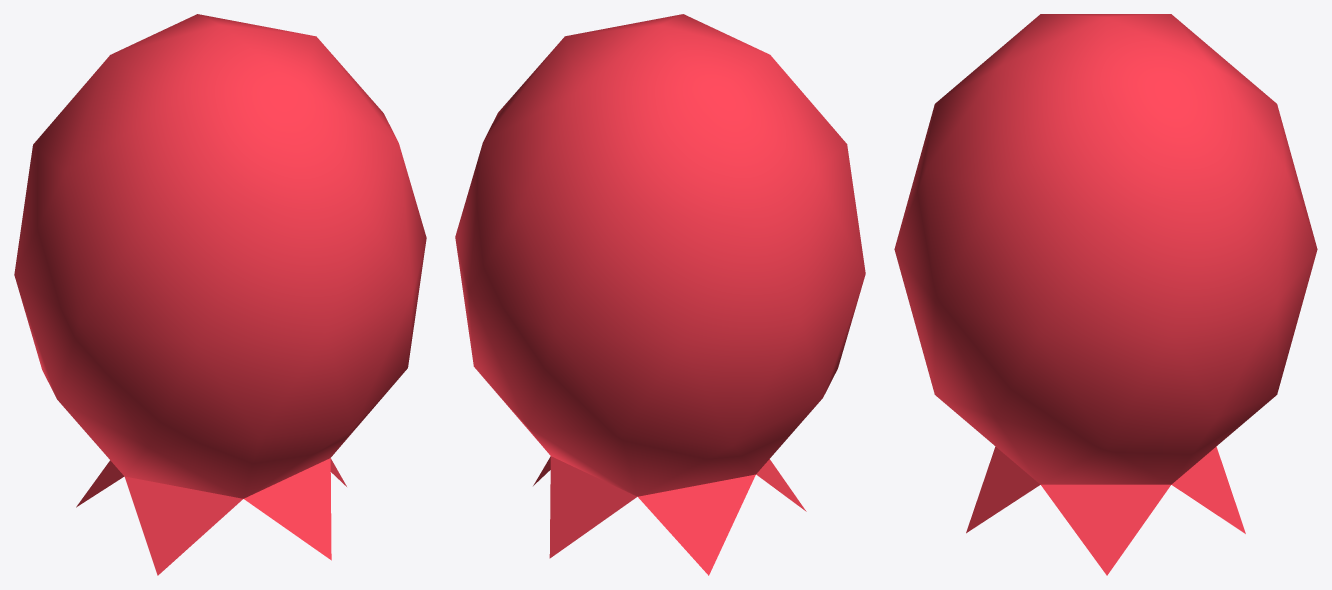
File: balloon.obj
3 views of the same model, side by side, from view 1: azimuth 30°, elevation 25°; view 2: azimuth 150°, elevation 25°; view 3: azimuth 270°, elevation 25° (orthographic).
Parts seen in each view (by area): view 1: balloon; view 2: balloon; view 3: balloon.
Part boxes in pixels (<box>): balloon: <box>14,14,426,575</box>; balloon: <box>455,14,865,575</box>; balloon: <box>894,14,1317,575</box>.
Bounding box in the file's own units: 0.3804 × 0.5181 × 0.4.
Materials: 1 (1 with a texture image).
